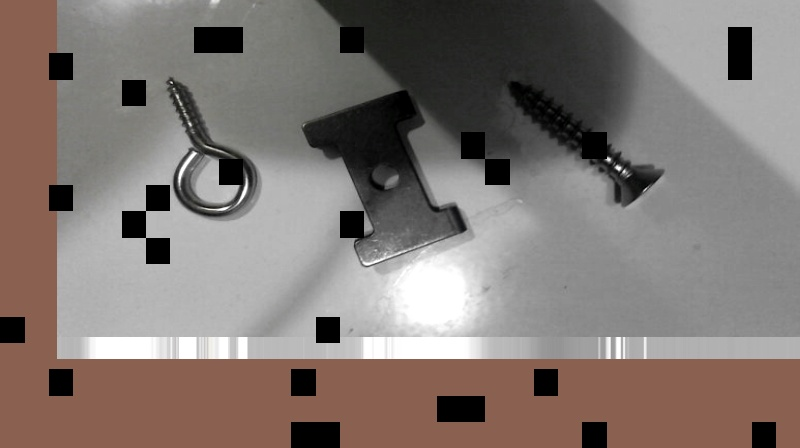O001: (159, 69, 260, 218)
O002: (298, 85, 473, 267)
S001: (500, 74, 672, 211)
